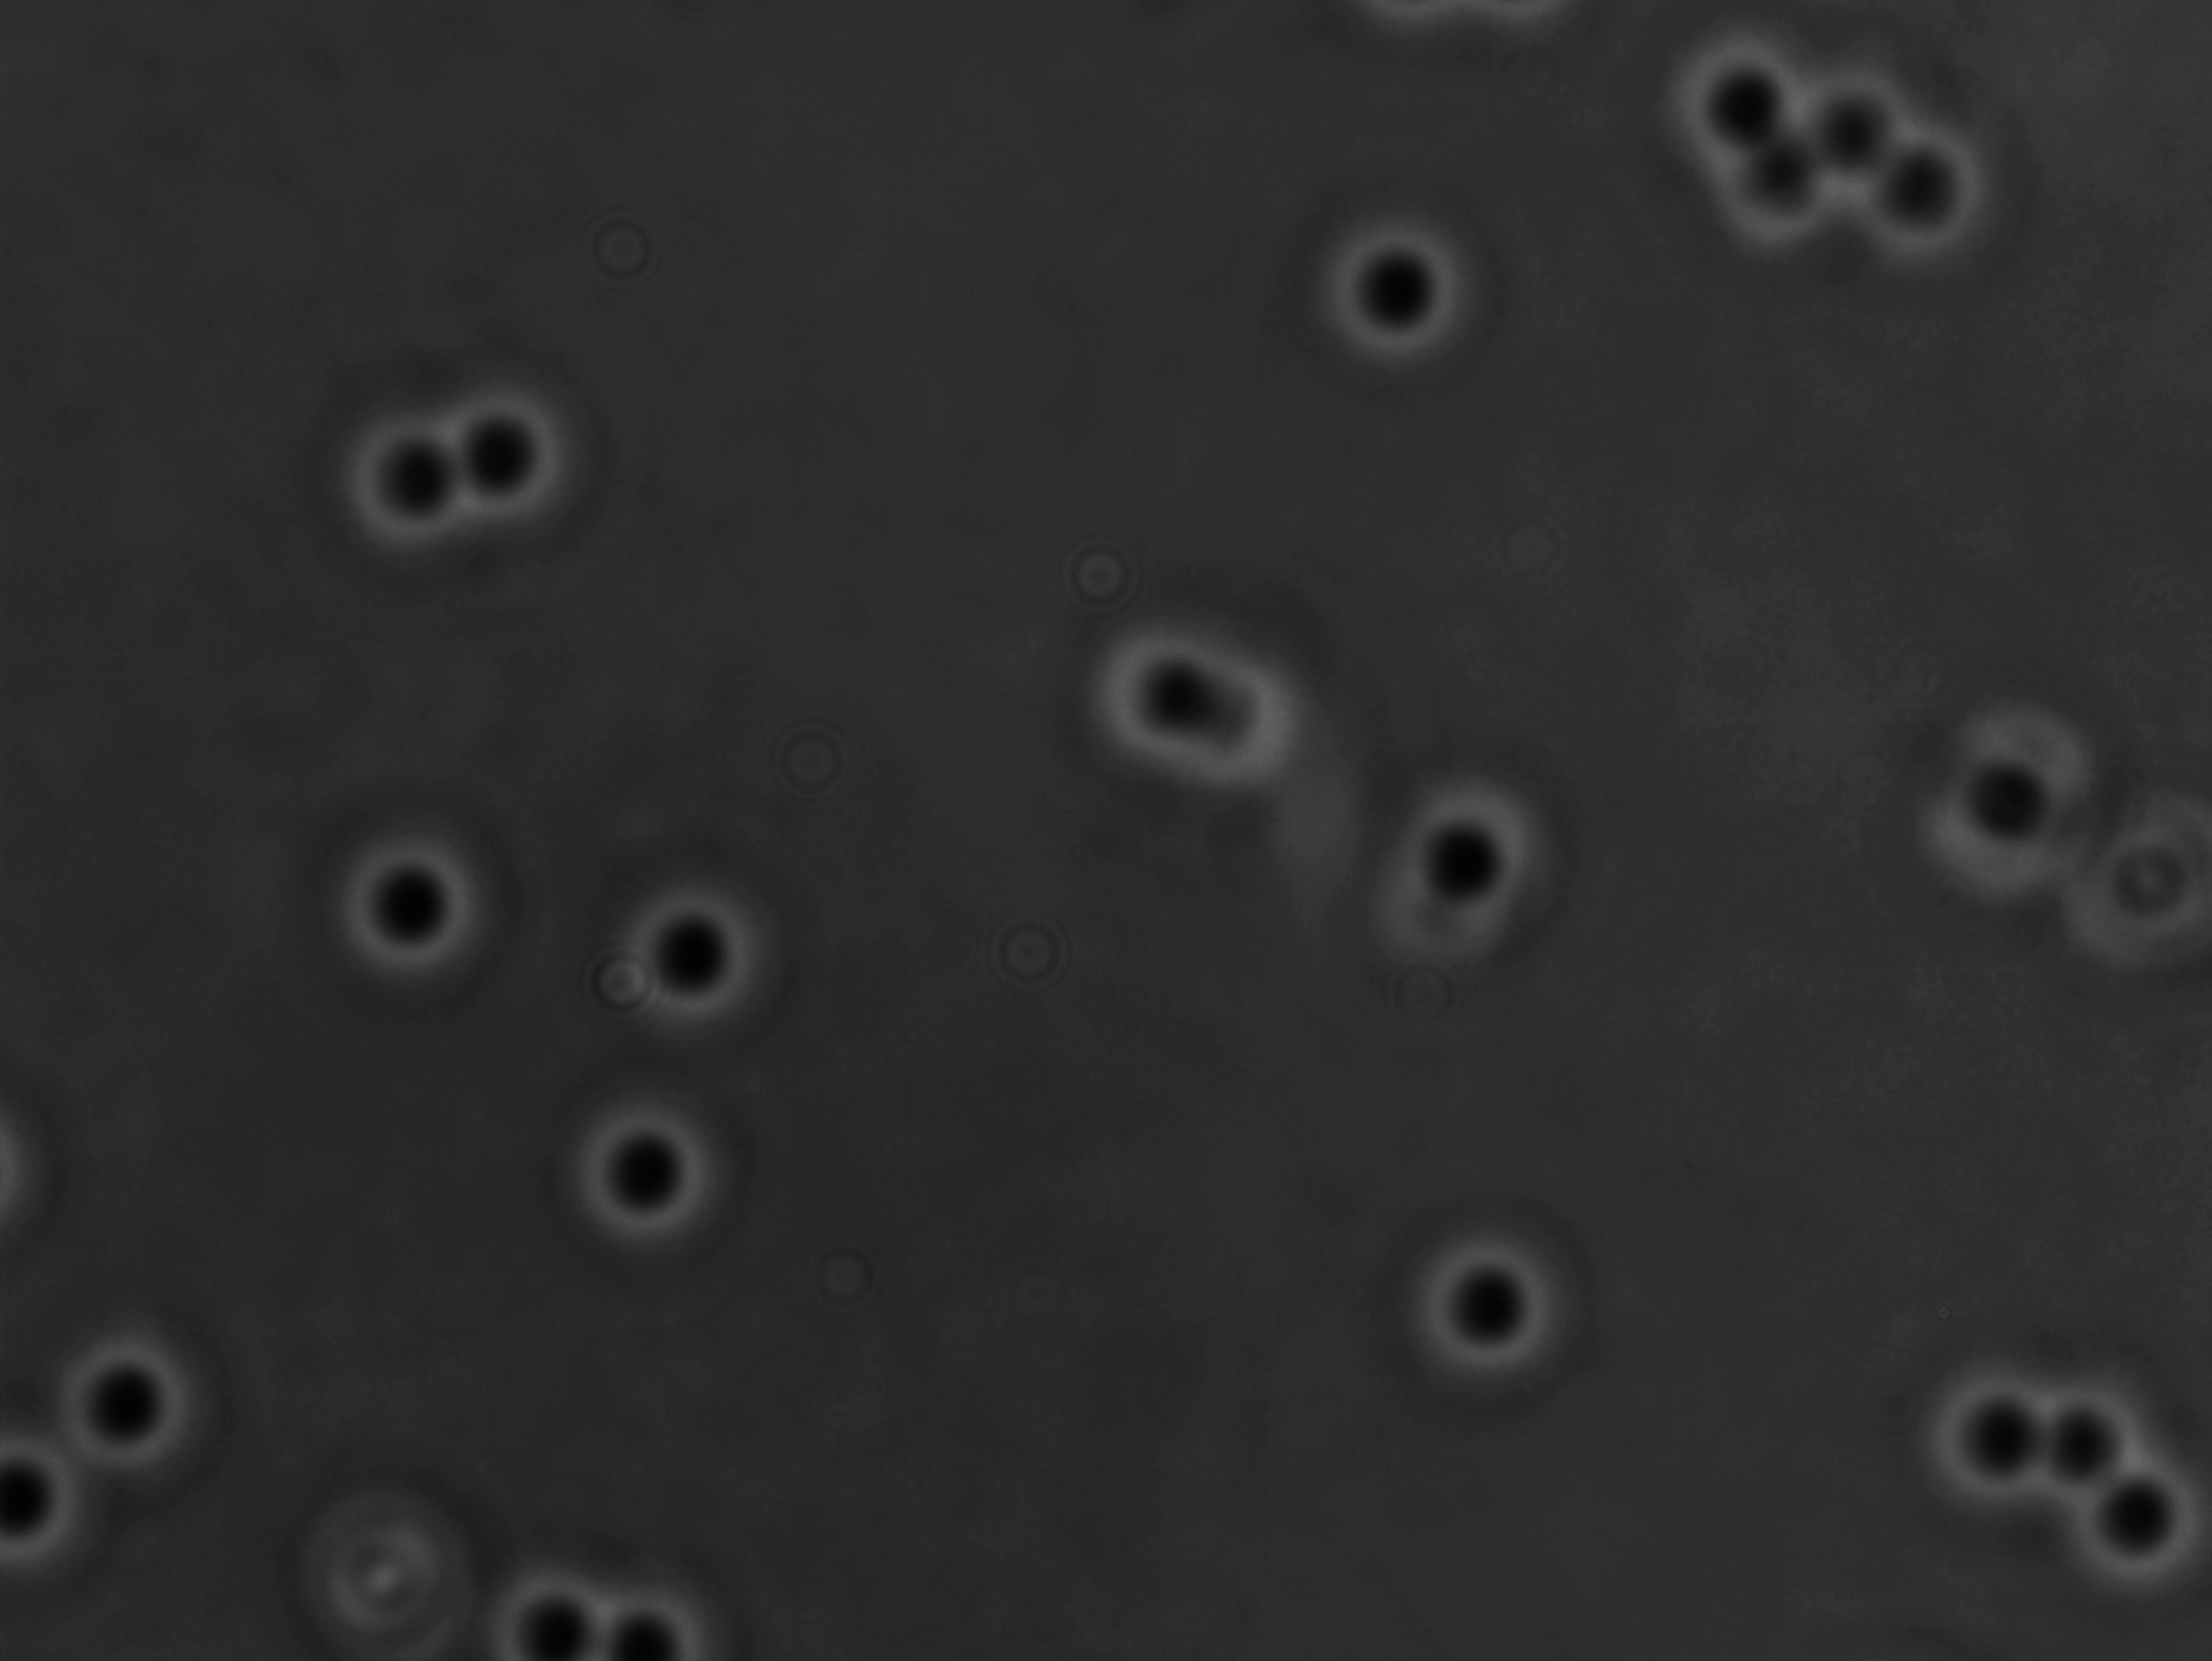depth:-80: (1361, 755, 1579, 977), (1907, 698, 2120, 902), (1389, 1218, 1580, 1415), (546, 1089, 745, 1272), (1301, 201, 1493, 384), (593, 871, 790, 1049), (37, 1319, 222, 1499), (321, 810, 506, 988)
